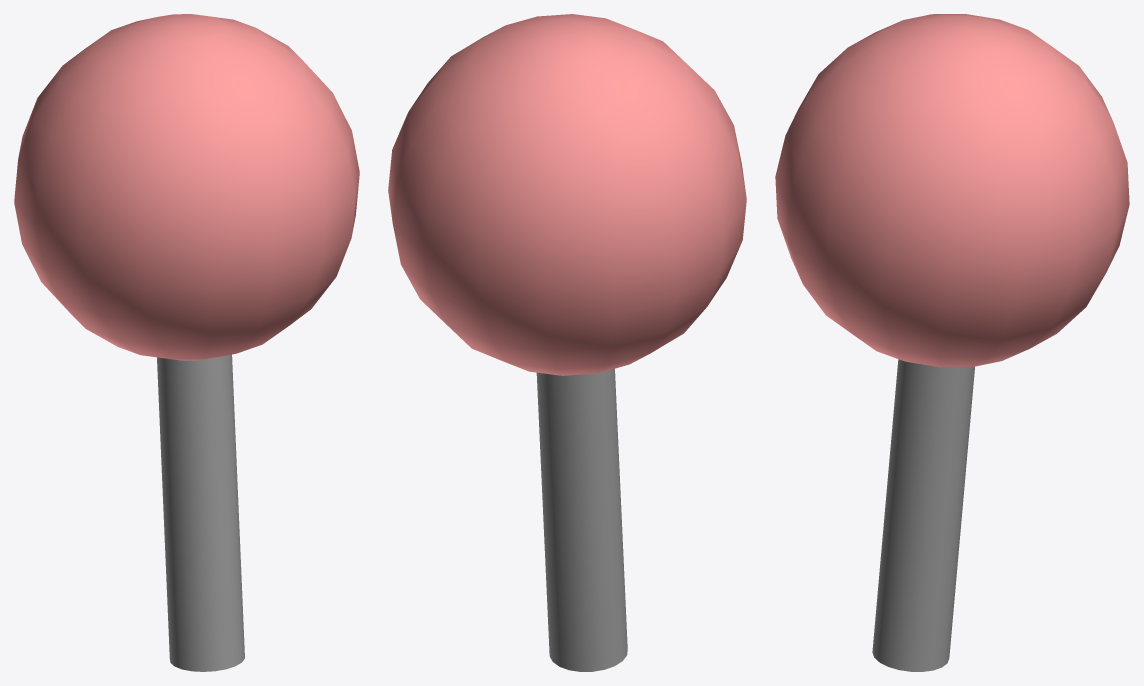
File: Tetris_Joystick.fbx
3 renders of one model, left to right at view 1: azimuth 30°, elevation 25°; view 2: azimuth 150°, elevation 25°; view 3: azimuth 270°, elevation 25°, orthographic. The views are drawn at different scales.
Parts seen in each view (by area): view 1: Tetris_Joystick; view 2: Tetris_Joystick; view 3: Tetris_Joystick.
Part boxes in pixels (x1=…): Tetris_Joystick: x1=14, y1=14, x2=359, y2=671; Tetris_Joystick: x1=388, y1=14, x2=746, y2=671; Tetris_Joystick: x1=775, y1=14, x2=1129, y2=671.
Bounding box in the file's own units: 7.8 × 15.21 × 7.77.
